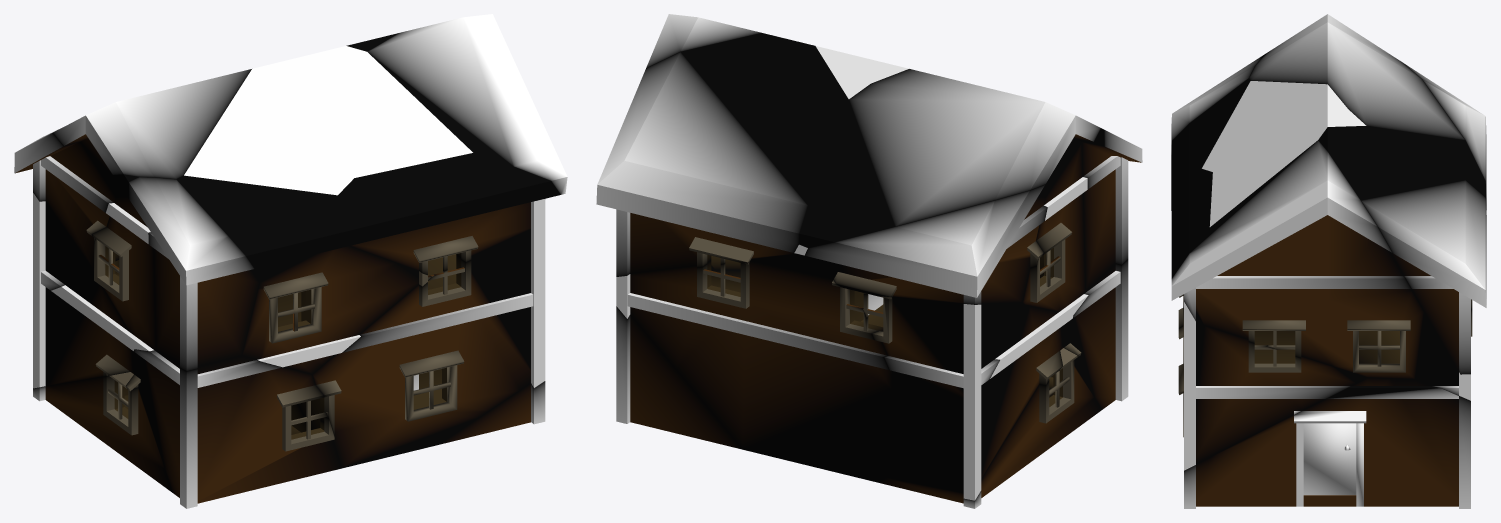
The model's file is Village_Apartment_Small_4_D.fbx.
3 views of the same model, side by side, from view 1: azimuth 30°, elevation 25°; view 2: azimuth 150°, elevation 25°; view 3: azimuth 270°, elevation 25° (orthographic). The views are drawn at different scales.
Visible parts, largest first — view 1: Village_Apartment_Small_4_fracturepart19_2, Village_Apartment_Small_4_fracturepart14, Village_Apartment_Small_4_fracturepart15_2, Village_Apartment_Small_4_fracturepart2, Village_Apartment_Small_4_fracturepart7_2, Village_Apartment_Small_4_fracturepart9, Village_Apartment_Small_4_fracturepart16, Village_Apartment_Small_4_fracturepart8, Village_Apartment_Small_4_fracturepart10_3, Village_Apartment_Small_4_fracturepart3_2, Village_Apartment_Small_4_fracturepart1, Village_Apartment_Small_4_fracturepart12_2 (+26 smaller); view 2: Village_Apartment_Small_4_fracturepart17, Village_Apartment_Small_4_fracturepart18_5, Village_Apartment_Small_4_fracturepart8, Village_Apartment_Small_4_fracturepart4, Village_Apartment_Small_4_fracturepart1, Village_Apartment_Small_4_fracturepart6, Village_Apartment_Small_4_fracturepart5_2, Village_Apartment_Small_4_fracturepart12_2, Village_Apartment_Small_4_fracturepart13_3, Village_Apartment_Small_4_fracturepart7_2, Village_Apartment_Small_4_fracturepart15_2, Village_Apartment_Small_4_fracturepart18_15 (+18 smaller); view 3: Village_Apartment_Small_4_fracturepart14, Village_Apartment_Small_4_fracturepart5_2, Village_Apartment_Small_4_fracturepart17, Village_Apartment_Small_4_fracturepart8, Village_Apartment_Small_4_fracturepart19_2, Village_Apartment_Small_4_fracturepart9, Village_Apartment_Small_4_fracturepart16, Village_Apartment_Small_4_fracturepart, Village_Apartment_Small_4_fracturepart2, Village_Apartment_Small_4_fracturepart3_2, Village_Apartment_Small_4_fracturepart14_6, Village_Apartment_Small_4_fracturepart4 (+17 smaller).
Part boxes in pixels (box(x1,y1,x2,y2)): Village_Apartment_Small_4_fracturepart19_2: box(298, 229, 530, 468); Village_Apartment_Small_4_fracturepart14: box(367, 14, 567, 194); Village_Apartment_Small_4_fracturepart15_2: box(133, 350, 341, 503); Village_Apartment_Small_4_fracturepart2: box(338, 153, 560, 270); Village_Apartment_Small_4_fracturepart7_2: box(128, 177, 259, 366); Village_Apartment_Small_4_fracturepart9: box(283, 46, 472, 177); Village_Apartment_Small_4_fracturepart16: box(184, 61, 353, 195); Village_Apartment_Small_4_fracturepart8: box(53, 69, 251, 179); Village_Apartment_Small_4_fracturepart10_3: box(242, 246, 418, 374); Village_Apartment_Small_4_fracturepart3_2: box(176, 175, 347, 282); Village_Apartment_Small_4_fracturepart1: box(45, 260, 137, 385); Village_Apartment_Small_4_fracturepart12_2: box(45, 371, 306, 492); Village_Apartment_Small_4_fracturepart17: box(596, 33, 848, 273); Village_Apartment_Small_4_fracturepart18_5: box(630, 254, 892, 482); Village_Apartment_Small_4_fracturepart8: box(799, 69, 1100, 247); Village_Apartment_Small_4_fracturepart4: box(804, 178, 1049, 303); Village_Apartment_Small_4_fracturepart1: box(886, 304, 1066, 493); Village_Apartment_Small_4_fracturepart6: box(882, 296, 1024, 397); Village_Apartment_Small_4_fracturepart5_2: box(630, 266, 742, 449); Village_Apartment_Small_4_fracturepart12_2: box(877, 346, 1101, 503); Village_Apartment_Small_4_fracturepart13_3: box(1023, 128, 1104, 311); Village_Apartment_Small_4_fracturepart7_2: box(1082, 130, 1142, 291); Village_Apartment_Small_4_fracturepart15_2: box(1049, 264, 1115, 409); Village_Apartment_Small_4_fracturepart18_15: box(627, 293, 889, 370); Village_Apartment_Small_4_fracturepart14: box(1171, 140, 1457, 378); Village_Apartment_Small_4_fracturepart5_2: box(1196, 377, 1458, 506); Village_Apartment_Small_4_fracturepart17: box(1318, 126, 1486, 370); Village_Apartment_Small_4_fracturepart8: box(1249, 14, 1486, 205); Village_Apartment_Small_4_fracturepart19_2: box(1196, 325, 1367, 464); Village_Apartment_Small_4_fracturepart9: box(1209, 98, 1366, 226); Village_Apartment_Small_4_fracturepart16: box(1202, 81, 1347, 171); Village_Apartment_Small_4_fracturepart: box(1303, 423, 1356, 495); Village_Apartment_Small_4_fracturepart2: box(1171, 168, 1212, 325); Village_Apartment_Small_4_fracturepart3_2: box(1171, 78, 1250, 199); Village_Apartment_Small_4_fracturepart14_6: box(1196, 276, 1411, 288); Village_Apartment_Small_4_fracturepart4: box(1402, 62, 1486, 209).
Size of the model in its own units: 1215 by 997 by 873.
